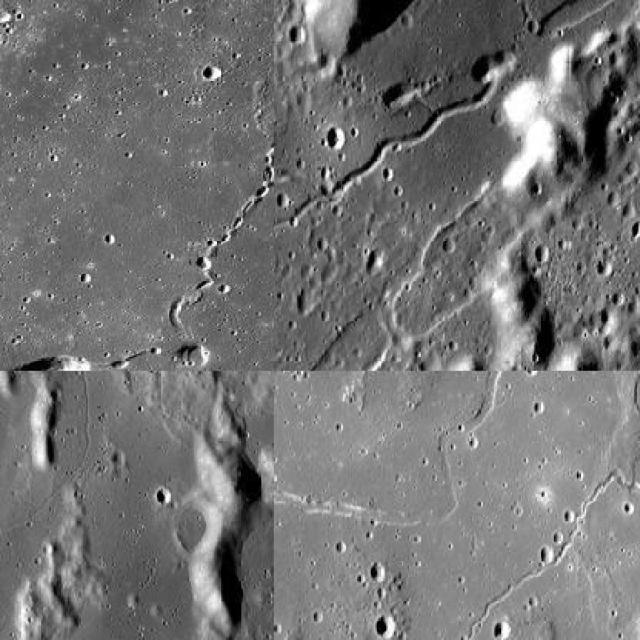rille: (274, 371, 638, 529), (274, 54, 514, 252), (404, 466, 638, 639), (166, 0, 272, 337), (0, 371, 94, 638)
